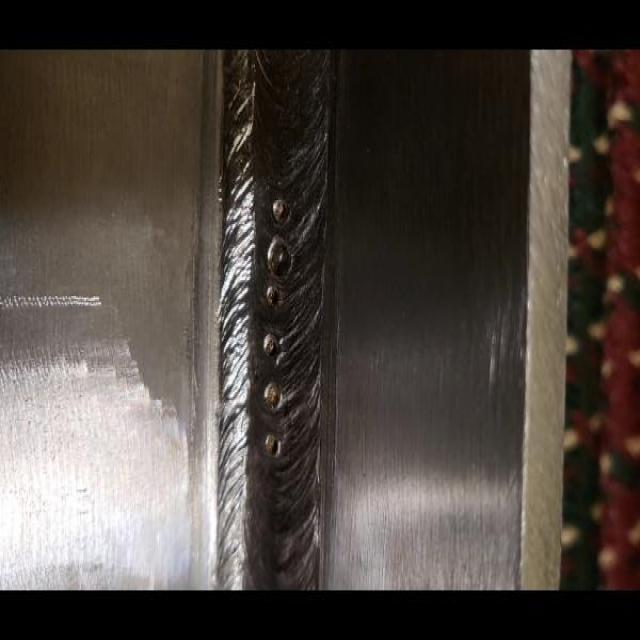Welding Line: (222, 51, 319, 594)
Workpiece: (2, 47, 561, 592)
porosity: (262, 197, 292, 458)
